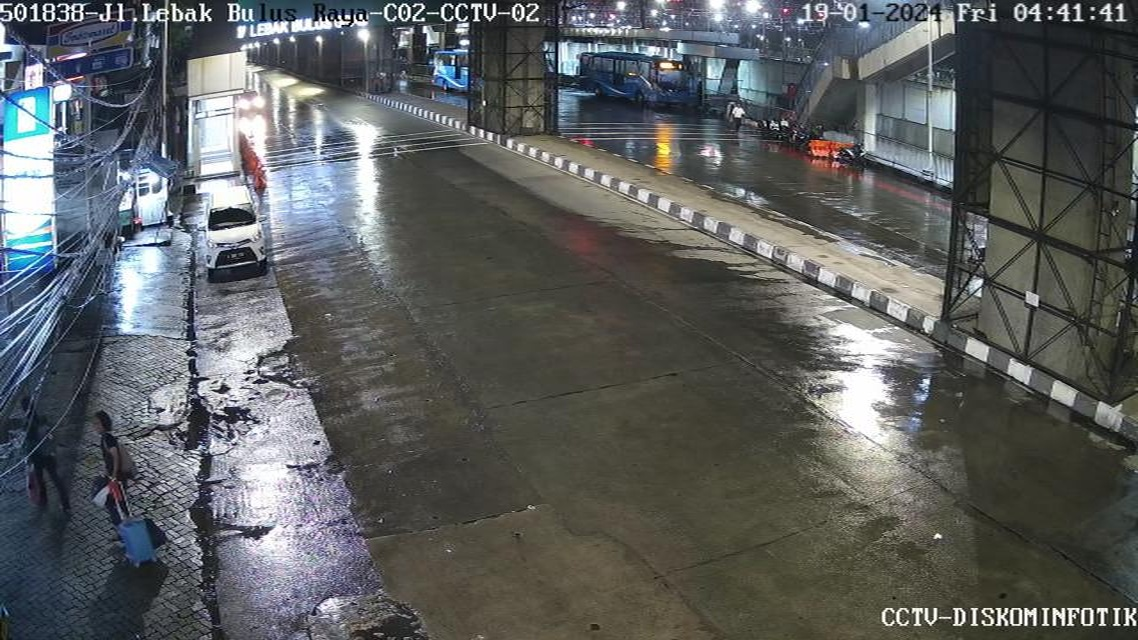Gerobak: (133, 166, 172, 228)
